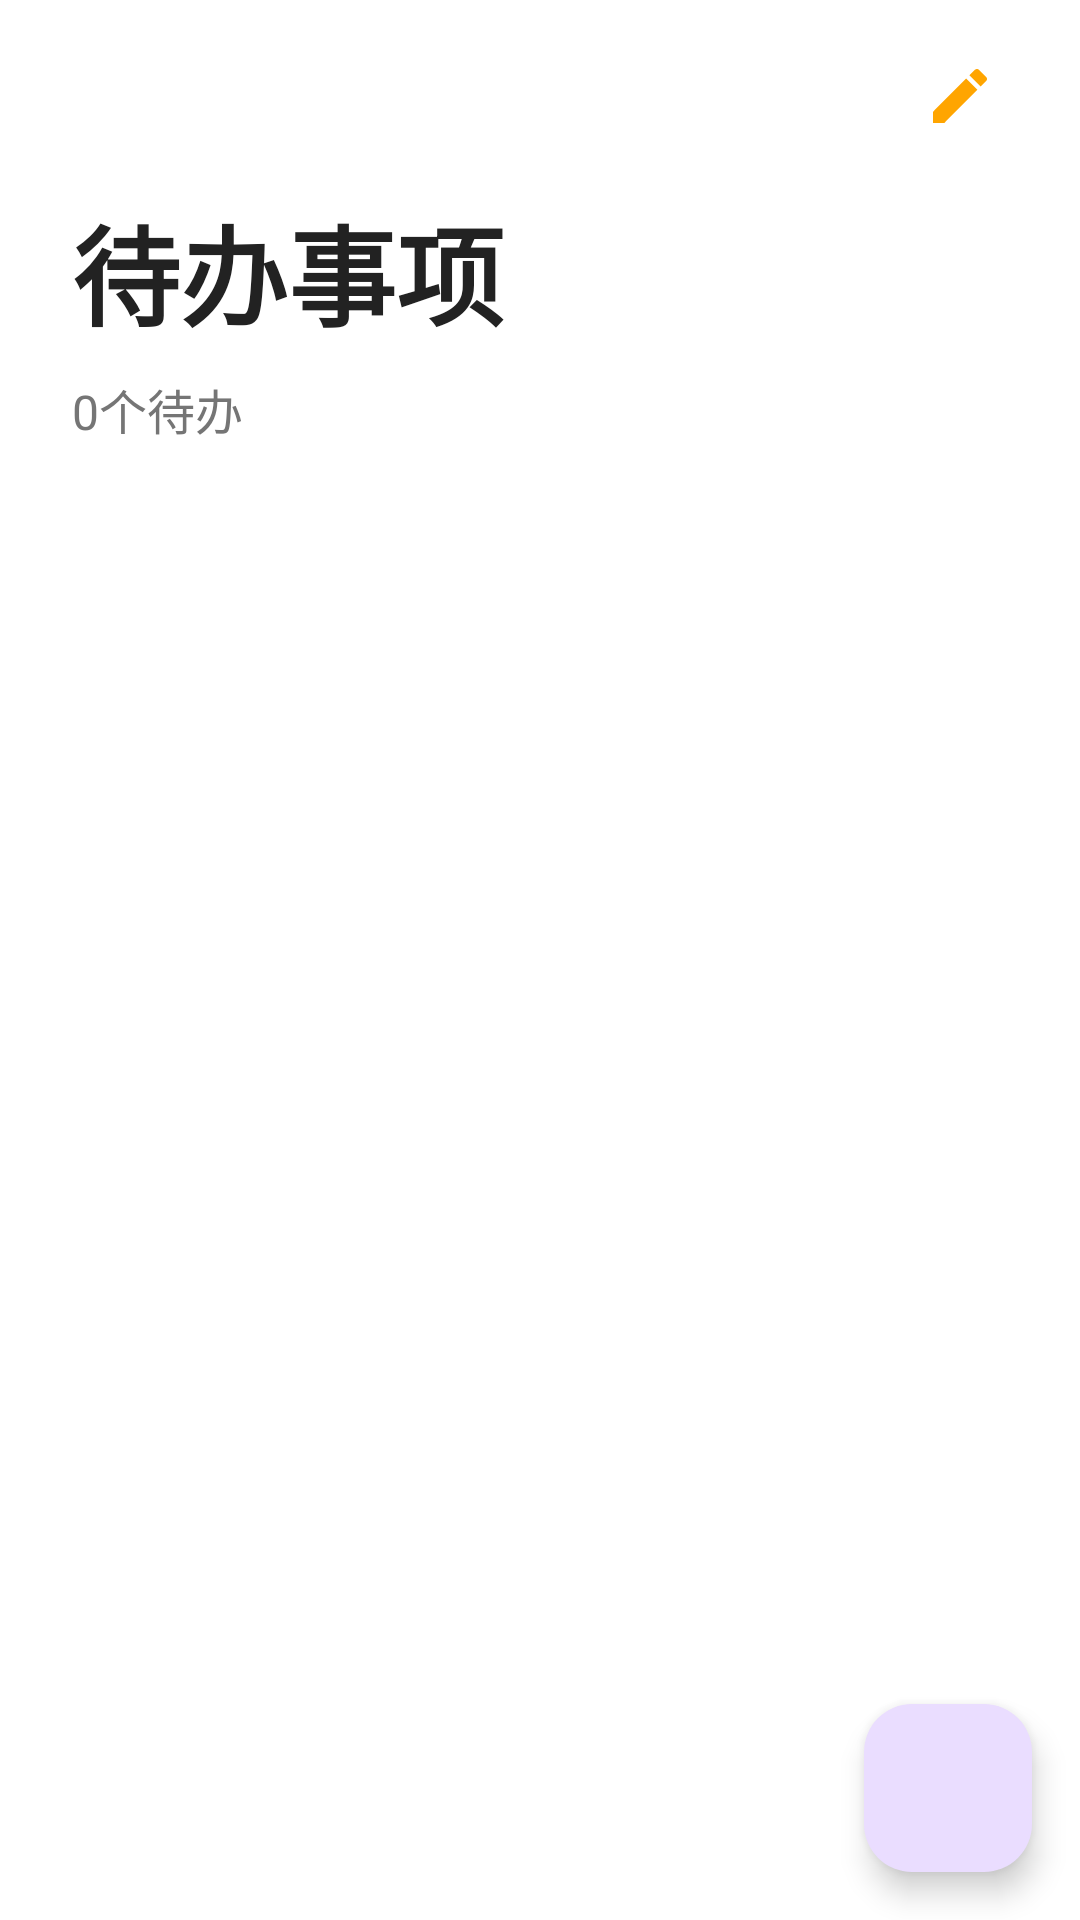

Icon bounding boxes for this 1080 × 1920 phone screenshot, format (x1, y1, x2, y2):
编辑: (933, 69, 987, 123)
